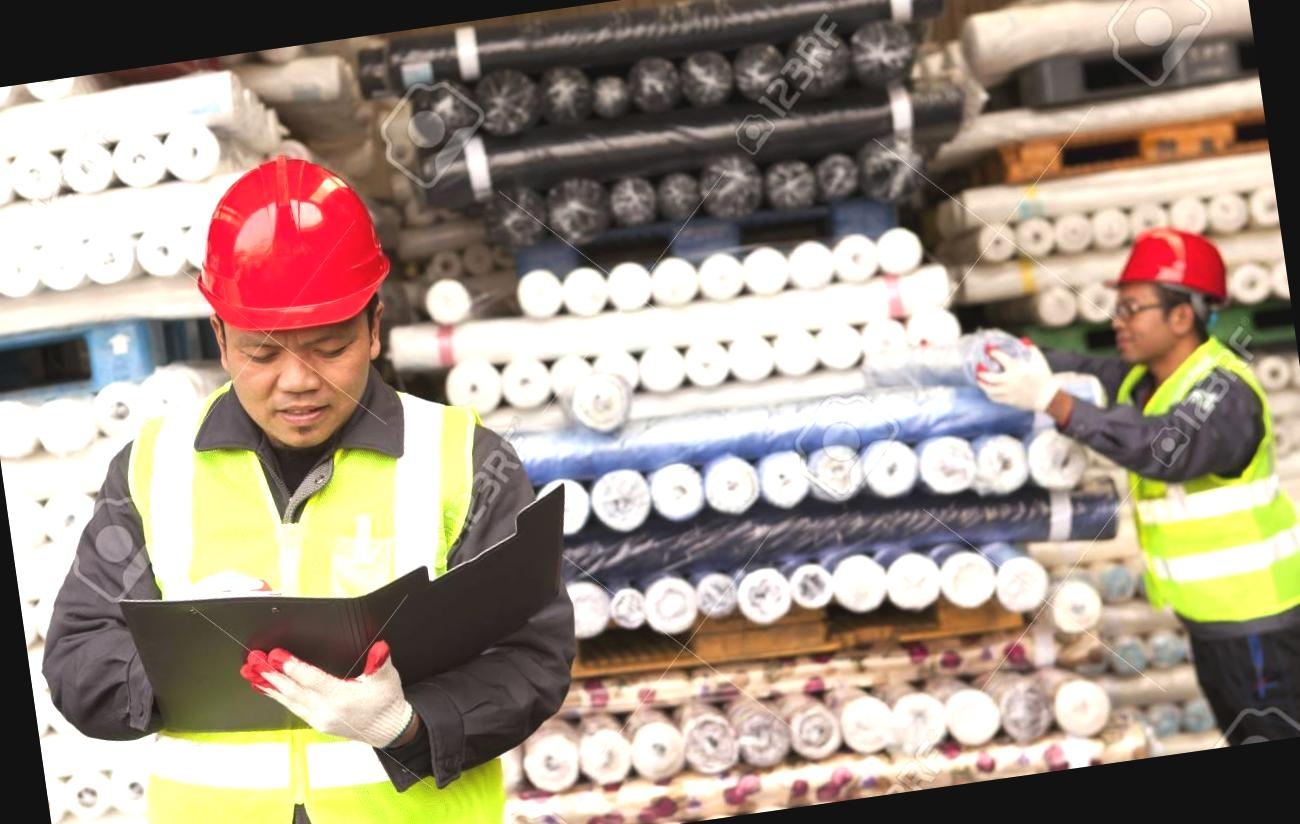helmet: (170, 138, 408, 352), (1084, 211, 1256, 332)
person: (33, 108, 610, 824), (1061, 206, 1300, 760)
